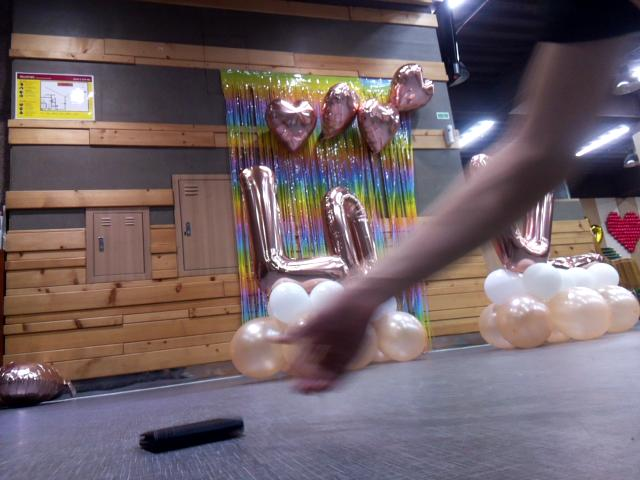wallet: (133, 411, 252, 457)
